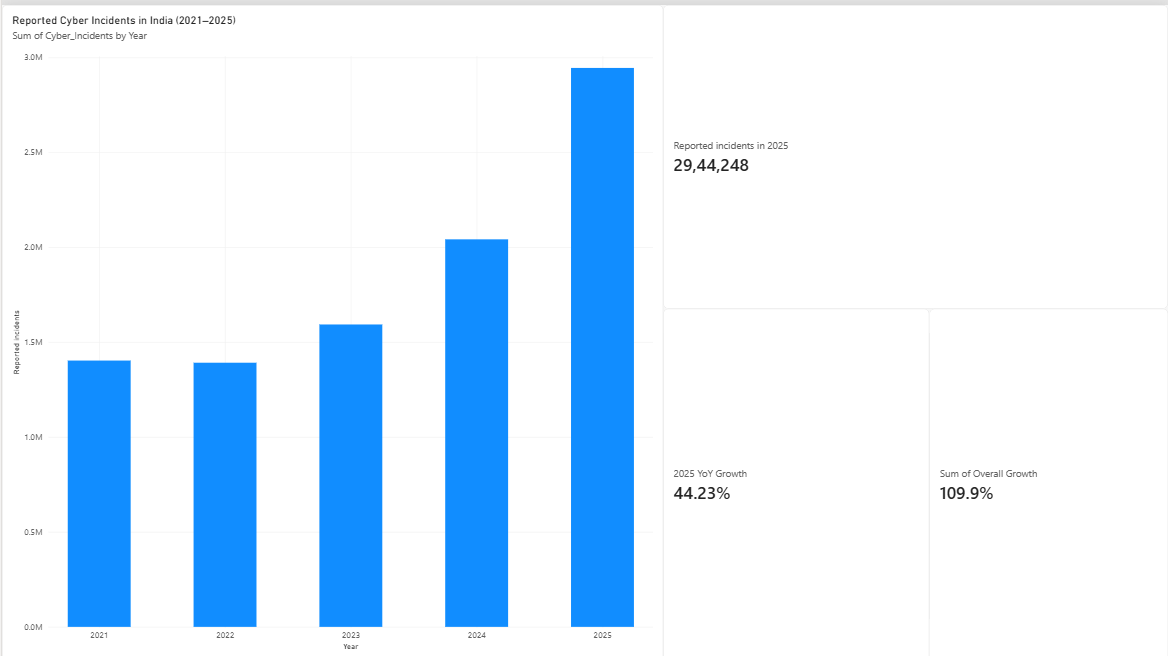

This screenshot's page, from the dashboard's own definition file:
{"tool":"powerbi","page":{"name":"India Cybersecurity Overview","canvas":[1920,1080],"ordinal":0},"visuals":[{"type":"clusteredColumnChart","title":"Reported Cyber Incidents in India (2021–2025)","fields":{"Category":["cyber_incidents.Year"],"Y":["Sum(cyber_incidents.Cyber_Incidents)"]},"box":[0,0,1088.9,1080.6],"z":0},{"type":"cardVisual","fields":{"Data":["Sum(cyber_incidents.Cyber_Incidents)"]},"box":[1088.9,0,831.6,500.2],"z":1},{"type":"cardVisual","fields":{"Data":["Sum(cyber_incidents.Overall Growth)"]},"box":[1527.3,500.2,393.1,580.4],"z":2},{"type":"cardVisual","fields":{"Data":["cyber_incidents.2025 YoY Growth"]},"box":[1088.9,500.2,438.4,580.4],"z":3}]}

Visuals, with their boxes in screenshot pixels (x1, y1, x2, y2), scaled from the page's 1920x1080 canvas onto the 1168x656 screenshot:
"Reported Cyber Incidents in India (2021–2025)" clusteredColumnChart: left=0, top=0, right=662, bottom=655
cardVisual - Sum(cyber_incidents.Cyber_Incidents): left=662, top=0, right=1167, bottom=304
cardVisual - Sum(cyber_incidents.Overall Growth): left=929, top=304, right=1167, bottom=655
cardVisual - cyber_incidents.2025 YoY Growth: left=662, top=304, right=929, bottom=655
